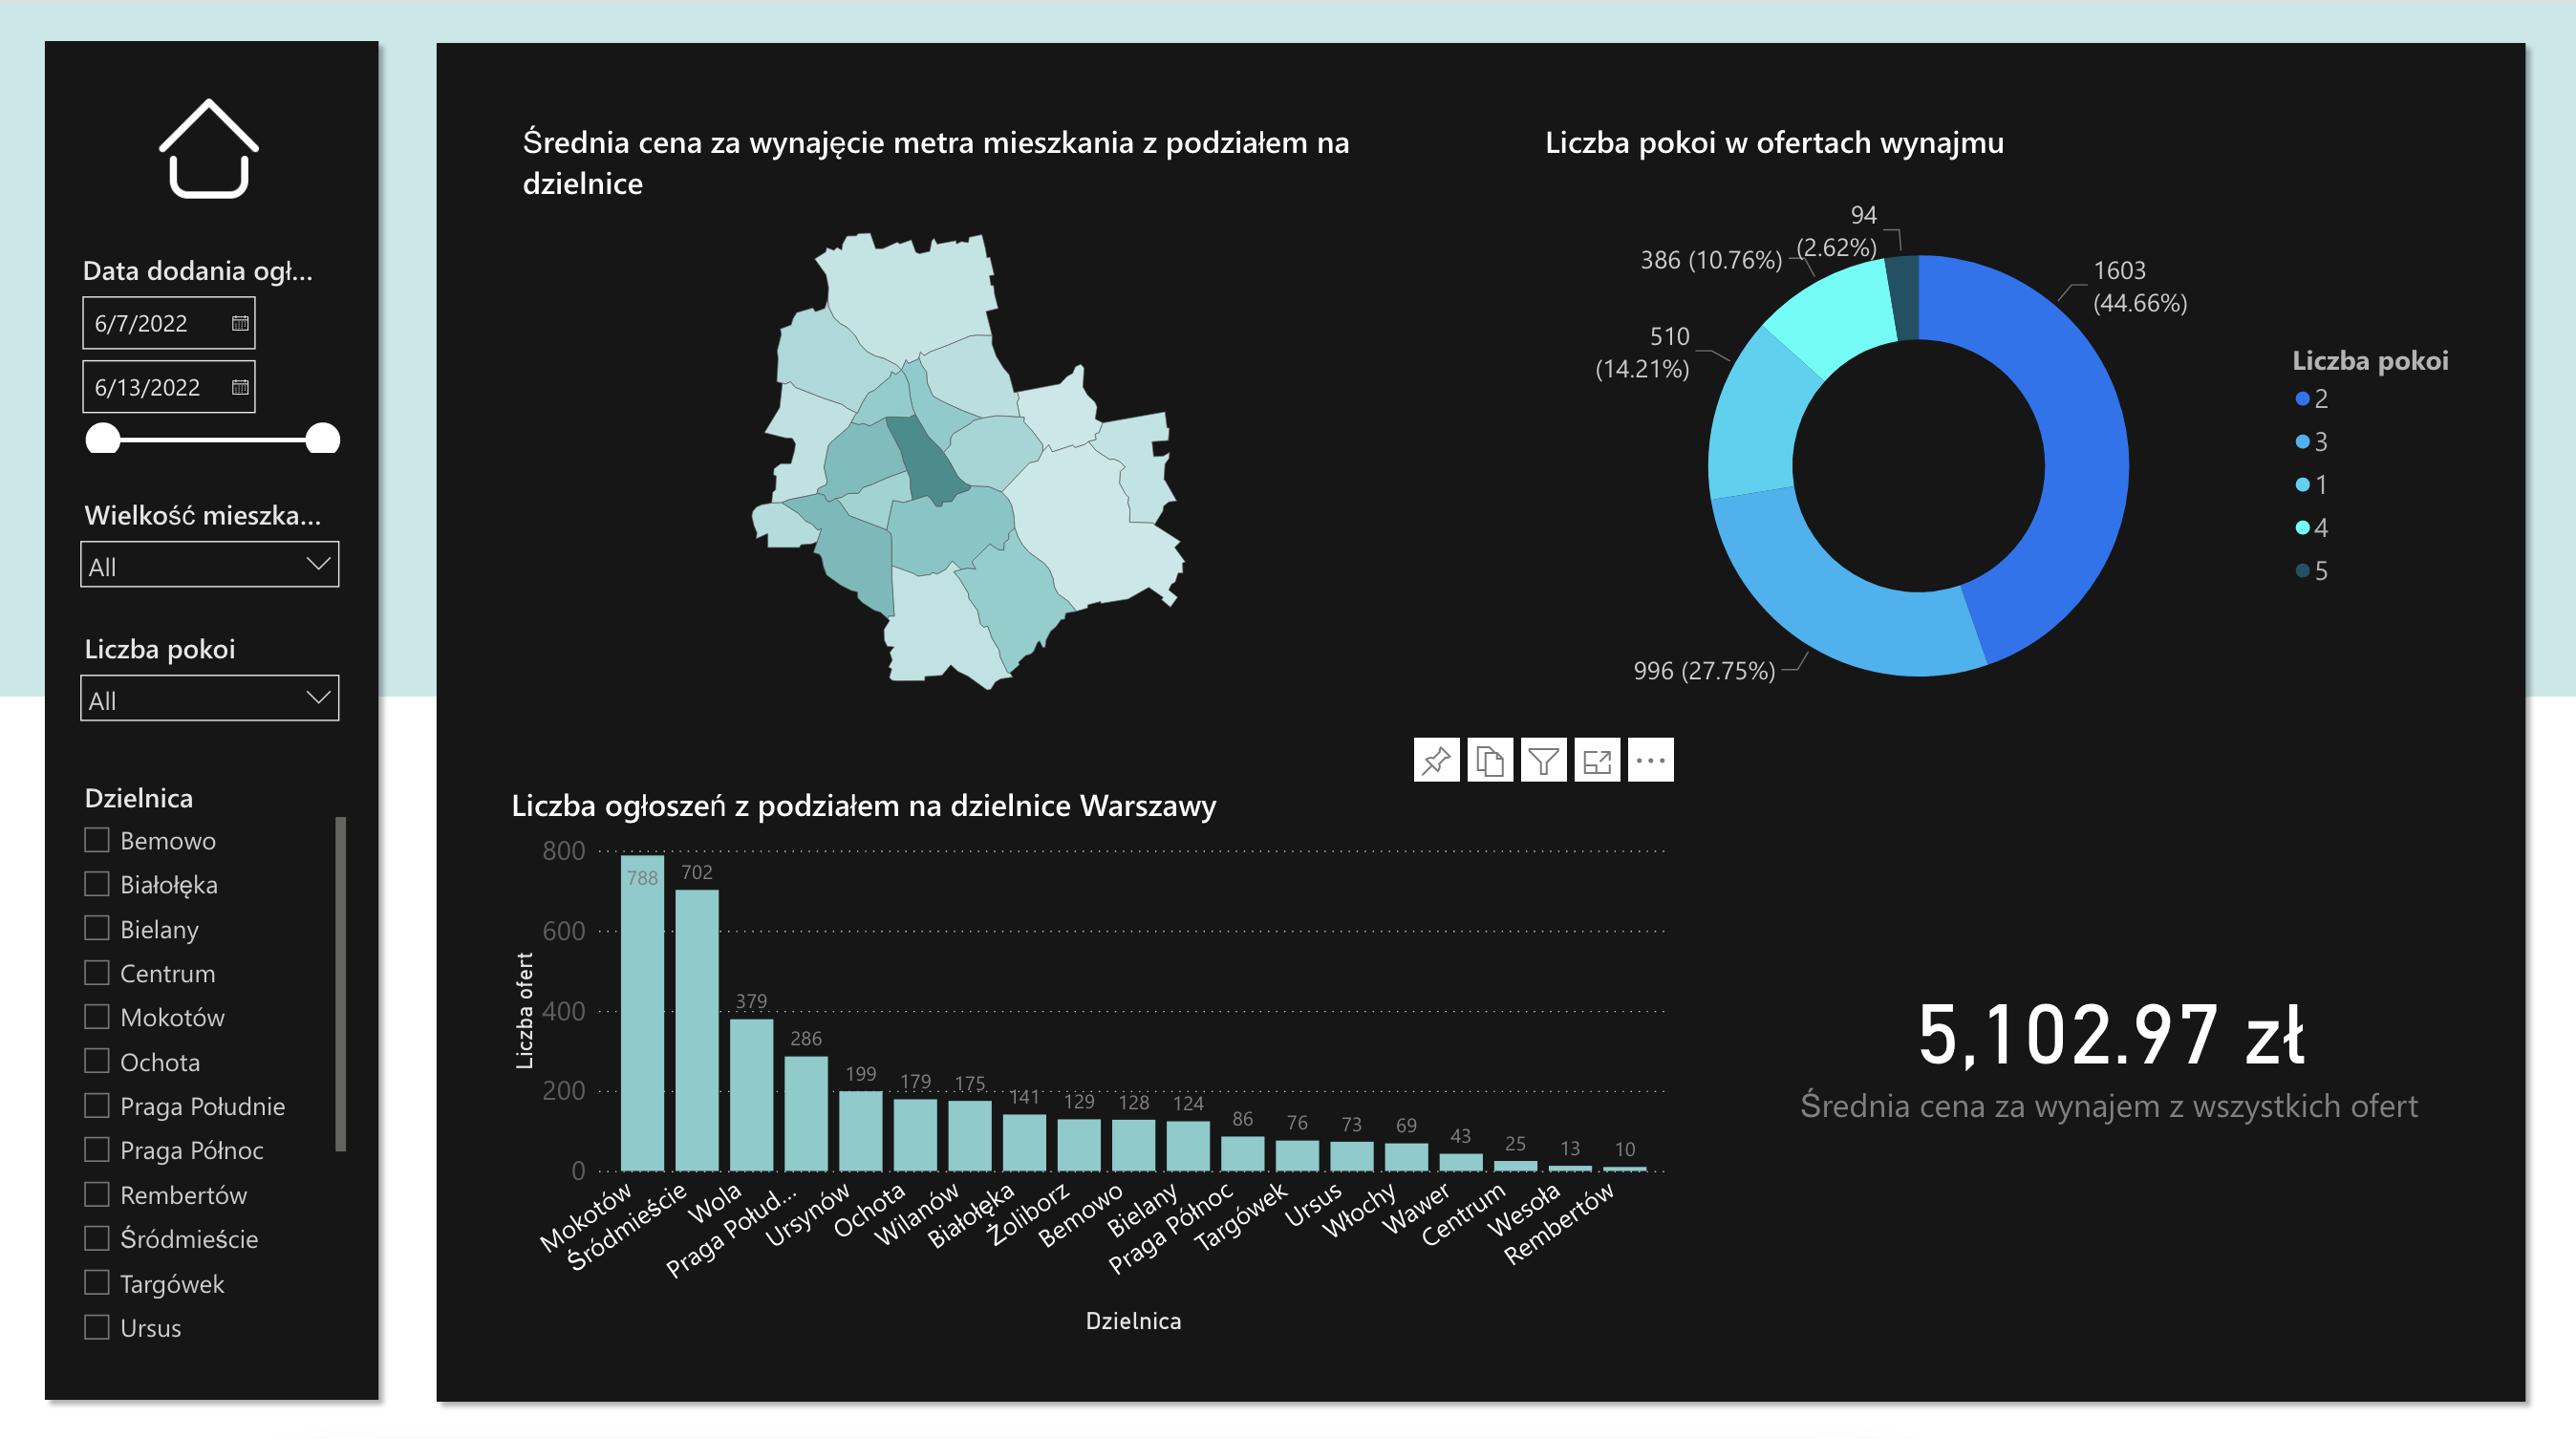

This screenshot's page, from the dashboard's own definition file:
{"tool":"powerbi","page":{"name":"Podsumowanie","canvas":[1920,1080],"ordinal":0},"visuals":[{"type":"shape","box":[0,0,1920,519],"z":0},{"type":"shape","box":[317,23,1574,1030],"z":1000},{"type":"shapeMap","title":"Średnia cena za wynajęcie metra mieszkania z podziałem na dzielnice","fields":{"Category":["df.district"],"Value":["Avg(df.Kolumna)"]},"box":[386,90,674,448],"z":2000},{"type":"donutChart","title":"Liczba pokoi w ofertach wynajmu","fields":{"Category":["df.rooms"],"Y":["CountNonNull(df.id)"]},"box":[1147.1,90,701.4,484.3],"z":3000},{"type":"columnChart","title":"Liczba ogłoszeń z podziałem na dzielnice Warszawy","fields":{"Y":["CountNonNull(df.id)"],"Category":["df.district"]},"box":[377,584,872,415],"z":4000},{"type":"shape","box":[25,21,267,1030],"z":5000},{"type":"card","fields":{"Values":["Avg(df.price)"]},"box":[1294.3,584.3,554.3,384.3],"z":6000},{"type":"slicer","fields":{"Values":["df.date_added"]},"box":[50,181.4,212.9,154.3],"z":7000},{"type":"image","box":[109,63,95,96],"z":8000},{"type":"slicer","fields":{"Values":["df.rooms"]},"box":[51.4,464.3,212.9,88.6],"z":9000},{"type":"slicer","fields":{"Values":["df.district"]},"box":[51.4,574.3,212.9,434.3],"z":10000},{"type":"slicer","fields":{"Values":["df.area_agg"]},"box":[51.9,364.4,212.8,87.8],"z":11000}]}

Visuals, with their boxes on the page's 1920x1080 design canvas (x1, y1, x2, y2). These are canvas units, not pixel positions in the 2576x1439 screenshot, which may show the page scaled, cropped or inside an application window:
shape: region(0, 0, 1920, 519)
shape: region(317, 23, 1891, 1053)
"Średnia cena za wynajęcie metra mieszkania z podziałem na dzielnice" shapeMap: region(386, 90, 1060, 538)
"Liczba pokoi w ofertach wynajmu" donutChart: region(1147, 90, 1848, 574)
"Liczba ogłoszeń z podziałem na dzielnice Warszawy" columnChart: region(377, 584, 1249, 999)
shape: region(25, 21, 292, 1051)
card - Avg(df.price): region(1294, 584, 1849, 969)
slicer - df.date_added: region(50, 181, 263, 336)
image: region(109, 63, 204, 159)
slicer - df.rooms: region(51, 464, 264, 553)
slicer - df.district: region(51, 574, 264, 1009)
slicer - df.area_agg: region(52, 364, 265, 452)
